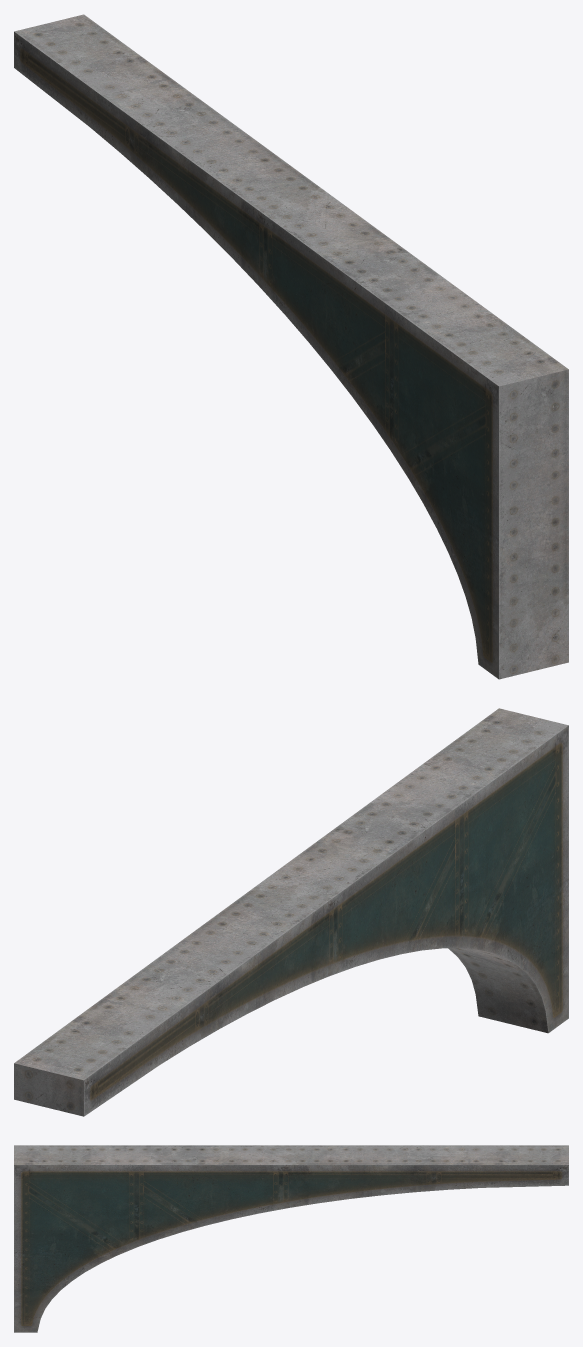
File: SM_ArchLarge.FBX
3 views of the same model, one above another, from view 1: azimuth 30°, elevation 25°; view 2: azimuth 150°, elevation 25°; view 3: azimuth 270°, elevation 25° (orthographic). The views are drawn at different scales.
Parts seen in each view (by area): view 1: SM_ArchLarge; view 2: SM_ArchLarge; view 3: SM_ArchLarge.
Part boxes in pixels (box(x1,y1,x2,y2)): SM_ArchLarge: box(14, 14, 568, 679); SM_ArchLarge: box(14, 708, 568, 1116); SM_ArchLarge: box(14, 1145, 568, 1332).
Size of what is drawn, in the model's own units: 100 by 1200 by 400.
